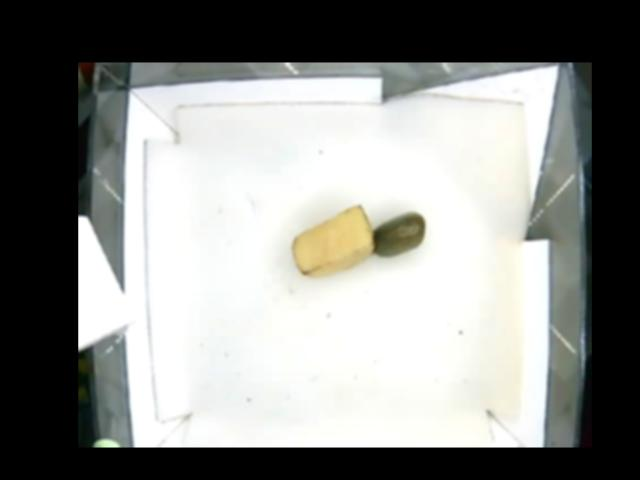Pebble: (371, 212, 426, 259)
Potato: (291, 205, 375, 275)
